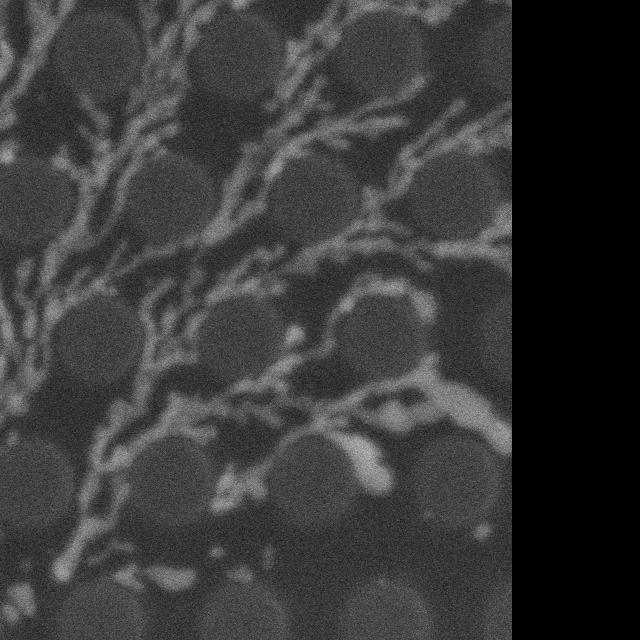Dendrite: (117, 0, 361, 279), (51, 375, 356, 580), (76, 0, 232, 250), (51, 358, 164, 582), (252, 61, 424, 202), (265, 0, 466, 108), (0, 255, 116, 435), (251, 275, 439, 385), (324, 354, 511, 455), (138, 244, 285, 366), (214, 417, 393, 513), (380, 102, 511, 204), (0, 0, 79, 167), (50, 97, 120, 263), (270, 192, 409, 275), (400, 199, 511, 279), (52, 471, 129, 582), (111, 561, 194, 591), (76, 536, 138, 569), (5, 584, 35, 624), (284, 324, 304, 349), (226, 564, 254, 579), (473, 522, 491, 541), (262, 544, 275, 569), (17, 556, 33, 576), (209, 545, 226, 559)
